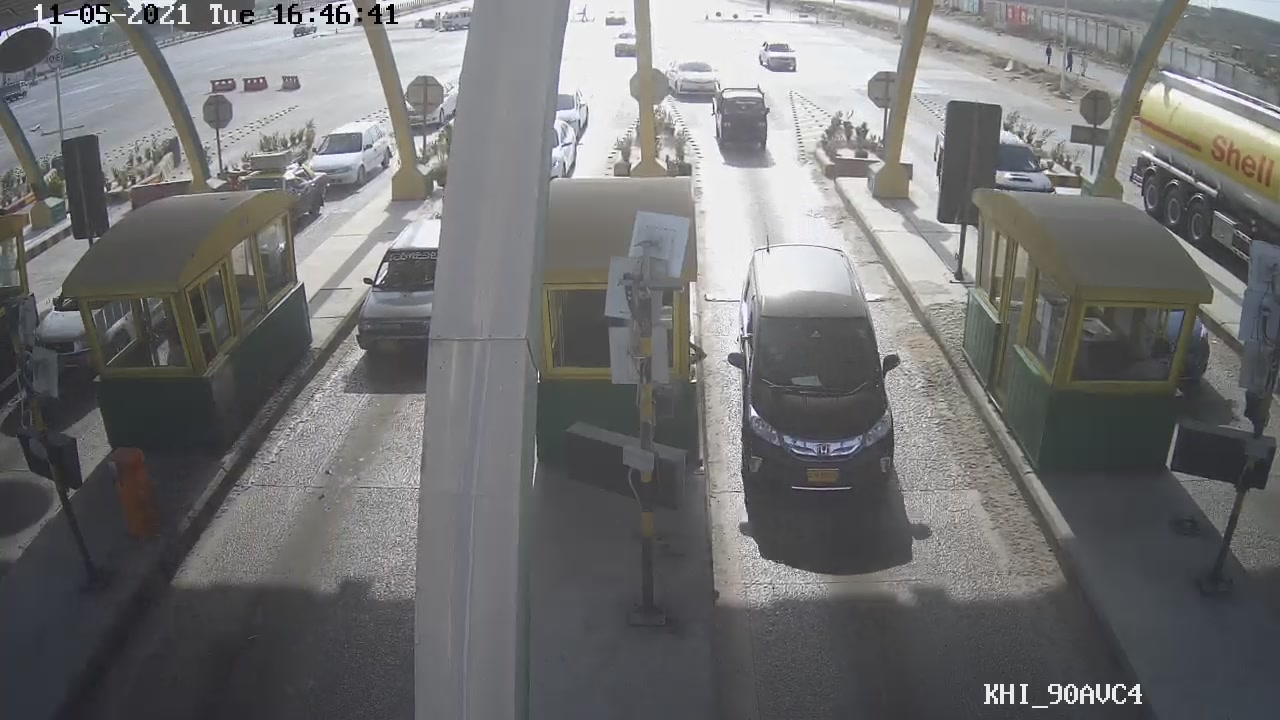F1: (726, 238, 911, 513)
